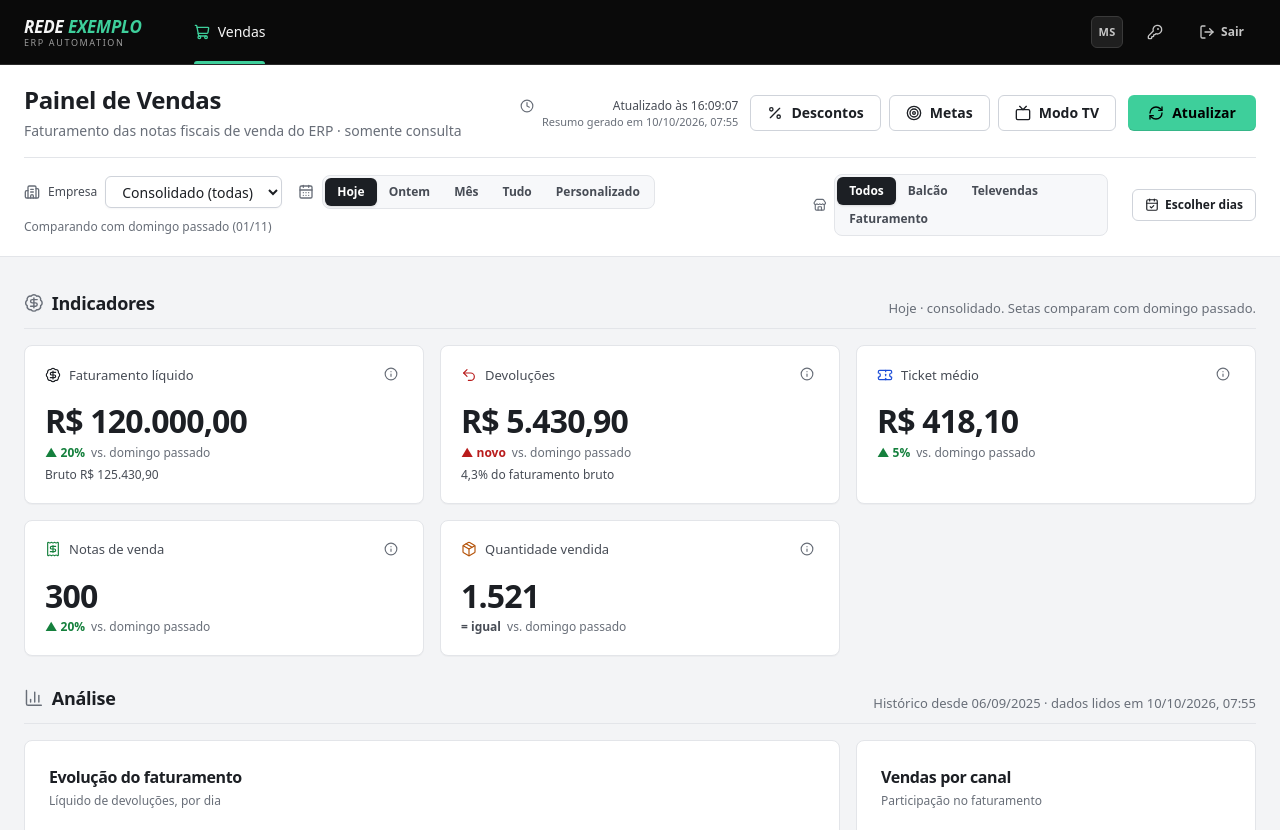
Test: VendasPage › relatório de descontos › mostra o erro da API
What coordinates should you click on to do the following:
click the button "Descontos"
I would click on:
 (816, 113)
Its box is left=750, top=95, right=881, bottom=131.
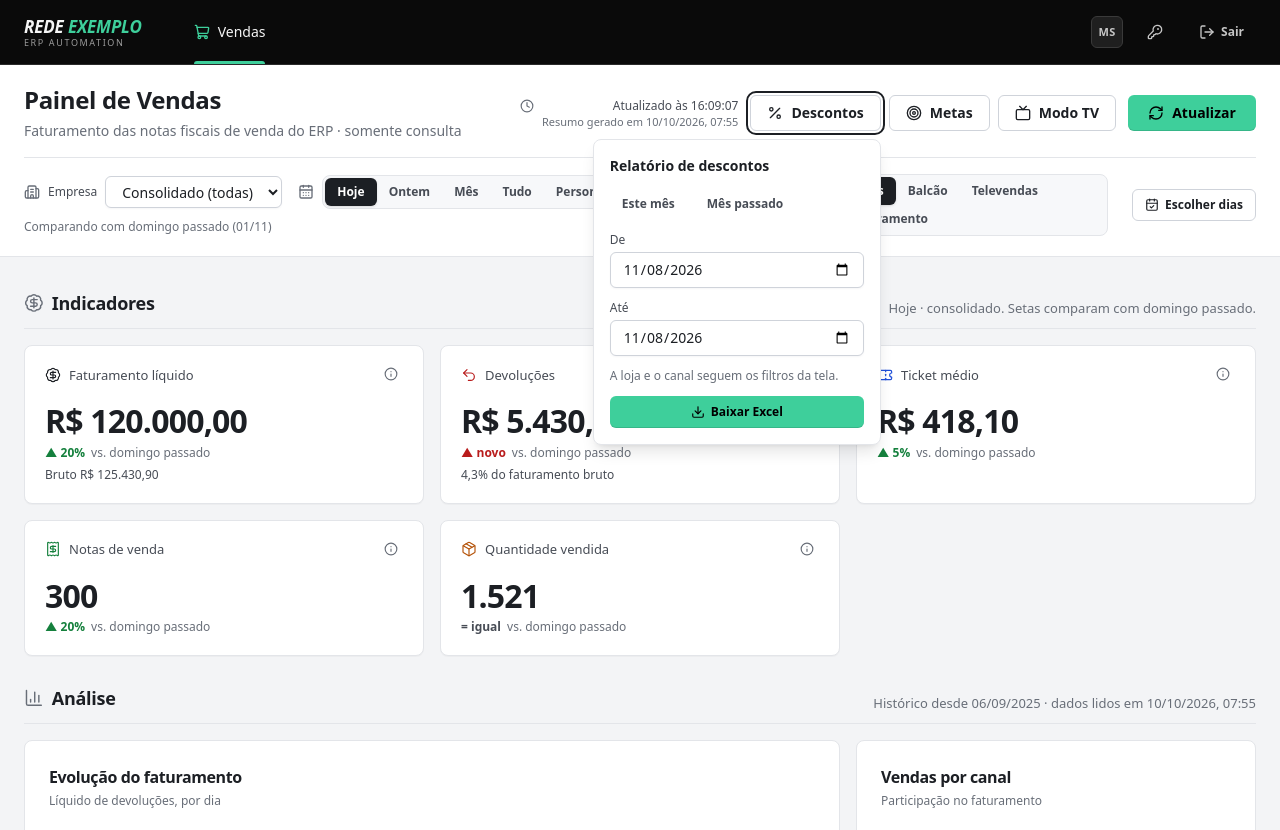
What coordinates should you click on to do the following:
click the button "Baixar Excel"
I would click on:
 (737, 412)
Its box is left=610, top=396, right=864, bottom=428.
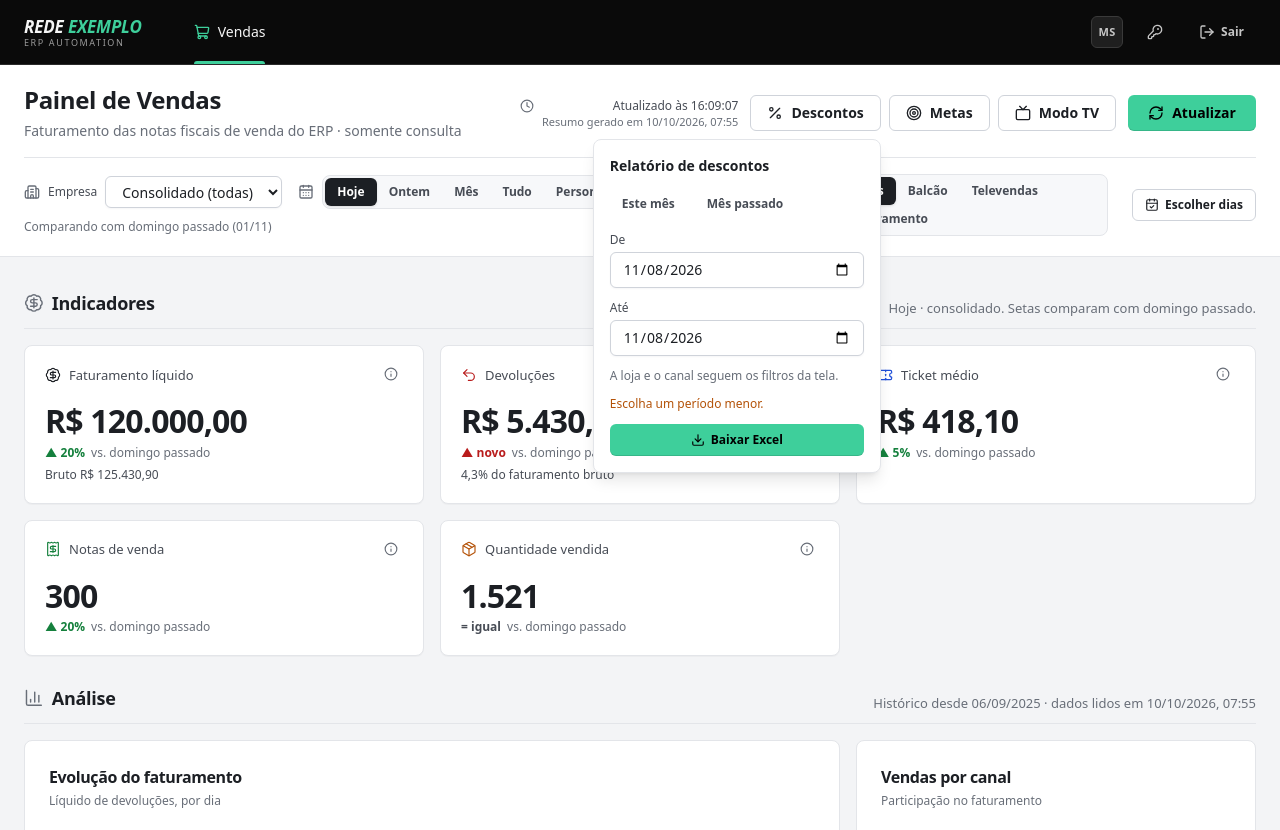
Now the message reads "Escolha um período menor.", box left=610, top=395, right=764, bottom=412
